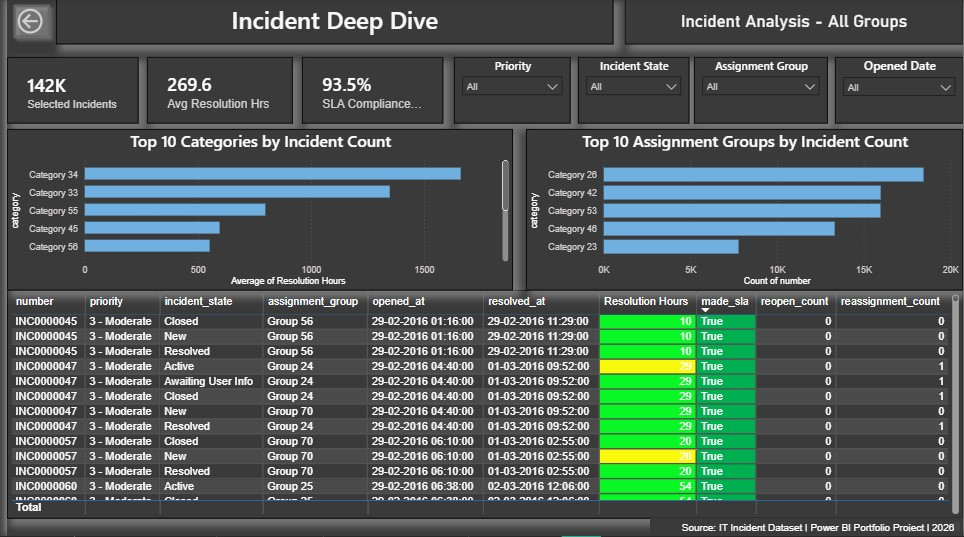

What the dashboard file says about the page in this screenshot:
{"tool":"powerbi","page":{"name":"Incident Deep Dive","canvas":[1280,720],"ordinal":2},"visuals":[{"type":"actionButton","box":[0,0,66.1,61.9],"z":0},{"type":"cardVisual","fields":{"Data":["Calculated Measures.Total Incidents"]},"box":[0,78.5,176.2,89.5],"z":1000},{"type":"cardVisual","fields":{"Data":["Calculated Measures.Avg Resolution Hours"]},"box":[187.2,78.5,195.4,89.5],"z":2000},{"type":"cardVisual","fields":{"Data":["Calculated Measures.SLA Compliance %"]},"box":[395,78.5,188.6,89.5],"z":3000},{"type":"slicer","title":"Priority","fields":{"Values":["Incidents.priority"]},"box":[598.7,78.5,155.5,89.5],"z":4000},{"type":"slicer","title":"Incident State","fields":{"Values":["Incidents.incident_state"]},"box":[763.9,78.5,148.6,89.5],"z":5000},{"type":"slicer","title":"Assignment Group","fields":{"Values":["Incidents.assignment_group"]},"box":[919.4,78.5,178.9,89.5],"z":6000},{"type":"slicer","title":"Opened Date","fields":{"Values":["Incidents.opened_at.Variation.Date Hierarchy.Year","Incidents.opened_at.Variation.Date Hierarchy.Quarter","Incidents.opened_at.Variation.Date Hierarchy.Month","Incidents.opened_at.Variation.Date Hierarchy.Day"]},"box":[1108,78.5,172,89.5],"z":7000},{"type":"tableEx","fields":{"Values":["Incidents.number","Incidents.priority","Incidents.incident_state","Incidents.assignment_group","Incidents.opened_at","Incidents.resolved_at","Incidents.Resolution Hours","Incidents.made_sla","Incidents.reopen_count","Incidents.reassignment_count"]},"box":[0,390.9,1280,305.5],"z":8000},{"type":"barChart","title":"Top 10 Categories by Incident Count","fields":{"Category":["Incidents.category"],"Y":["Avg(Incidents.Resolution Hours)"]},"box":[0,174.8,677.2,216.1],"z":9000},{"type":"advanceCardE03760C5AB684758B56AA29F9E6C257B","fields":{"mainMeasure":["Calculated Measures.Incident Deep Dive"]},"box":[827.2,0,452.8,61.9],"z":10000},{"type":"textbox","box":[66.1,0,746,61.9],"z":11000},{"type":"barChart","title":"Top 10 Assignment Groups by Incident Count","fields":{"Category":["Incidents.category"],"Y":["CountNonNull(Incidents.number)"]},"box":[695.1,174.8,584.9,216.1],"z":12000},{"type":"textbox","box":[860.2,696.4,419.8,23.4],"z":13000}]}

Visuals, with their boxes in screenshot pixels (x1, y1, x2, y2), scaled from the page's 1280x720 canvas onto the 964x537 screenshot:
actionButton: BBox(0, 0, 50, 46)
cardVisual - Calculated Measures.Total Incidents: BBox(0, 59, 133, 125)
cardVisual - Calculated Measures.Avg Resolution Hours: BBox(141, 59, 288, 125)
cardVisual - Calculated Measures.SLA Compliance %: BBox(297, 59, 440, 125)
"Priority" slicer: BBox(451, 59, 568, 125)
"Incident State" slicer: BBox(575, 59, 687, 125)
"Assignment Group" slicer: BBox(692, 59, 827, 125)
"Opened Date" slicer: BBox(834, 59, 963, 125)
tableEx - Incidents.number x Incidents.priority: BBox(0, 292, 963, 519)
"Top 10 Categories by Incident Count" barChart: BBox(0, 130, 510, 292)
advanceCardE03760C5AB684758B56AA29F9E6C257B - Calculated Measures.Incident Deep Dive: BBox(623, 0, 963, 46)
textbox: BBox(50, 0, 612, 46)
"Top 10 Assignment Groups by Incident Count" barChart: BBox(523, 130, 963, 292)
textbox: BBox(648, 519, 963, 536)
